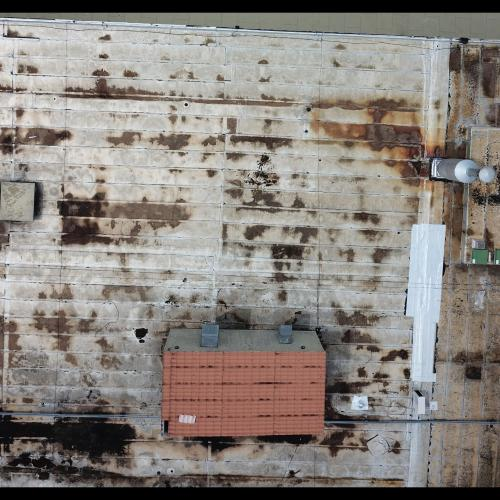conde: (410, 390, 431, 417)
